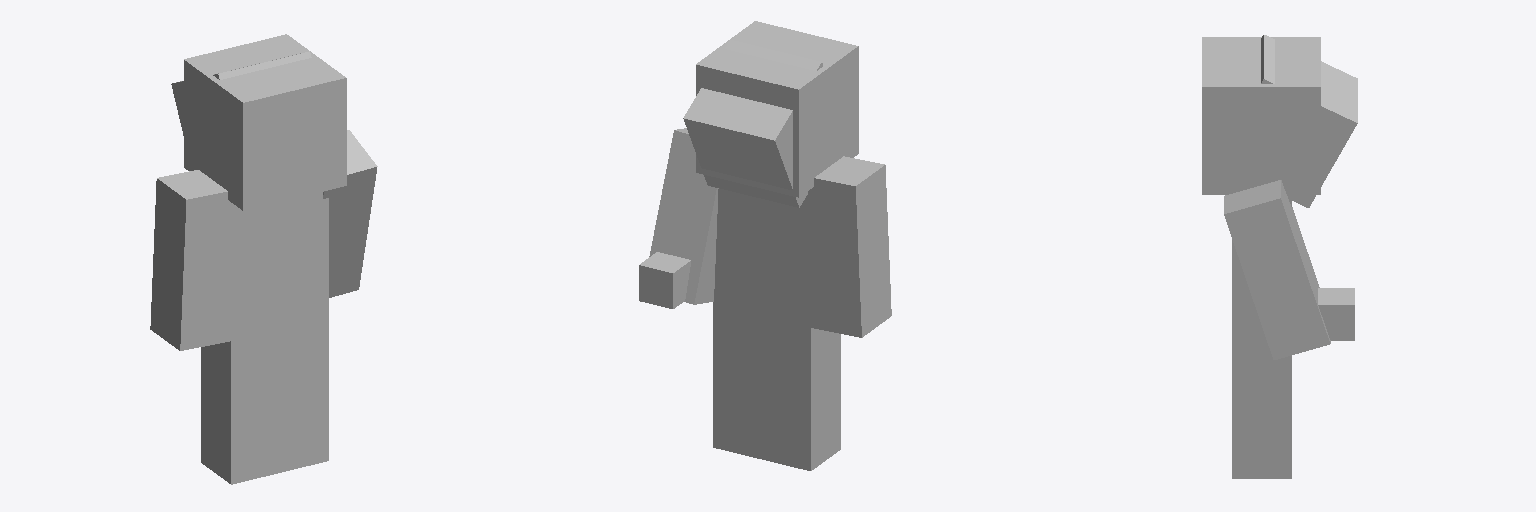
The model's file is structureblocksteve.obj.
The picture shows the model from 3 angles: view 1: azimuth 30°, elevation 25°; view 2: azimuth 150°, elevation 25°; view 3: azimuth 270°, elevation 25°; orthographic projection.
Visible parts, largest first — view 1: headwear, left_sleeve, jacket, left_pants, right_pants, right_sleeve, head; view 2: headwear, left_sleeve, left_pants, jacket, head, right_sleeve, right_pants, cube; view 3: headwear, right_sleeve, right_pants, head, cube, jacket.
Part boxes in pixels (x1,y1,x2,y2): headwear: (184, 34, 346, 210); left_sleeve: (150, 170, 236, 350); jacket: (231, 192, 328, 338); left_pants: (201, 328, 276, 484); right_pants: (277, 311, 328, 473); right_sleeve: (323, 130, 377, 297); head: (171, 51, 311, 135); headwear: (696, 21, 858, 197); left_sleeve: (806, 156, 891, 337); left_pants: (759, 309, 840, 470); jacket: (713, 188, 810, 324); head: (683, 40, 822, 207); right_sleeve: (649, 128, 718, 304); right_pants: (713, 304, 758, 458); cube: (639, 252, 690, 308); headwear: (1202, 37, 1320, 194); right_sleeve: (1224, 180, 1330, 359); right_pants: (1232, 329, 1291, 478); head: (1261, 35, 1357, 207); cube: (1318, 288, 1354, 340); jacket: (1232, 195, 1291, 334).
Size of the model in its own units: 1.09 by 2.07 by 0.7339.